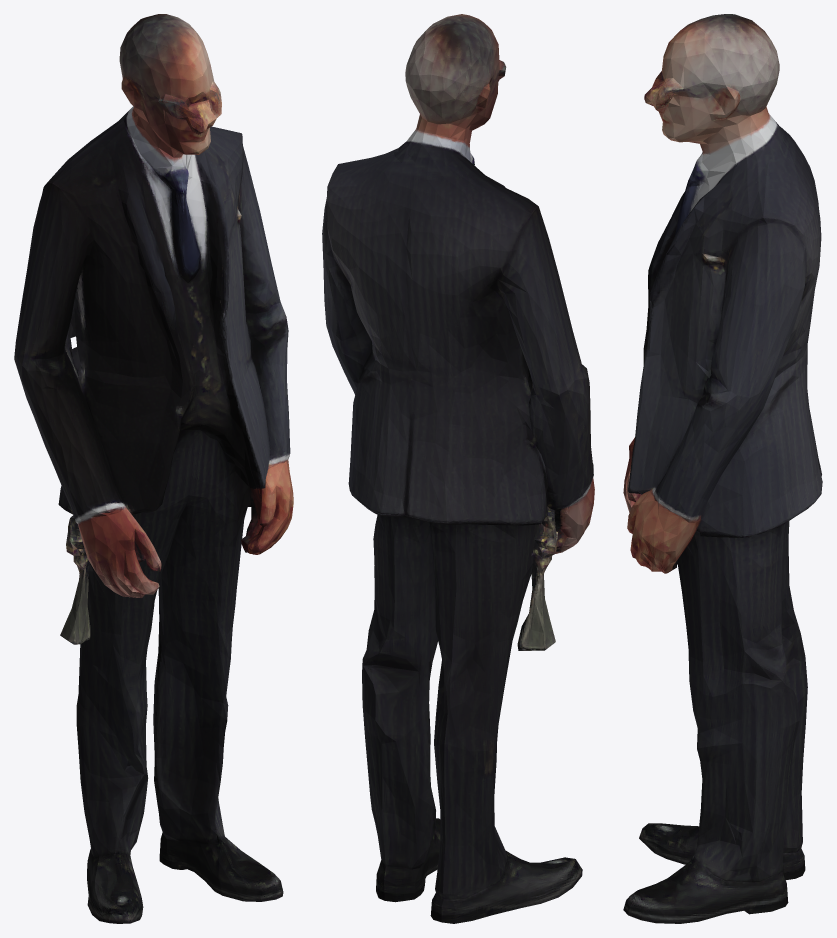
The model's file is jeryn_hogarth.glb.
3 views of the same model, side by side, from view 1: azimuth 30°, elevation 25°; view 2: azimuth 150°, elevation 25°; view 3: azimuth 270°, elevation 25° (orthographic).
Visible parts, largest first — view 1: world; view 2: world; view 3: world.
Boxes of the visible parts, left/top/right/bottom form: world: left=14, top=14, right=293, bottom=923; world: left=322, top=14, right=594, bottom=923; world: left=623, top=14, right=822, bottom=923.
Size of the model in its own units: 0.3113 by 0.9989 by 0.2082.
Materials: 1 (1 with a texture image).
